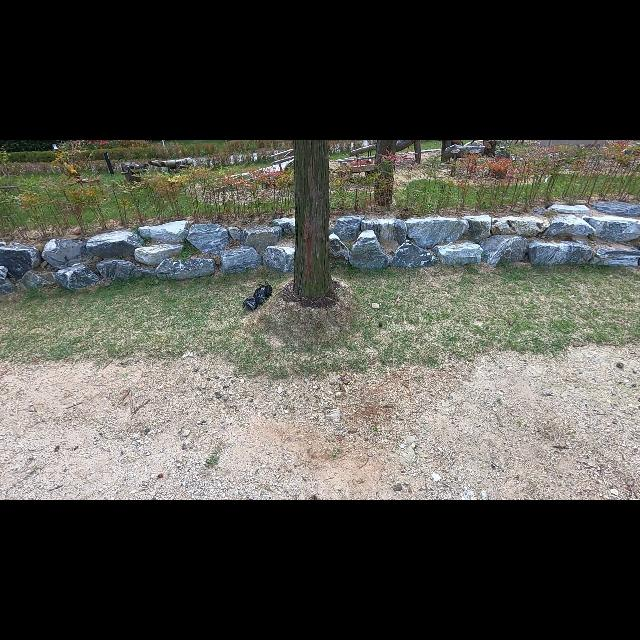trash: (249, 279, 273, 307), (239, 294, 259, 314)
